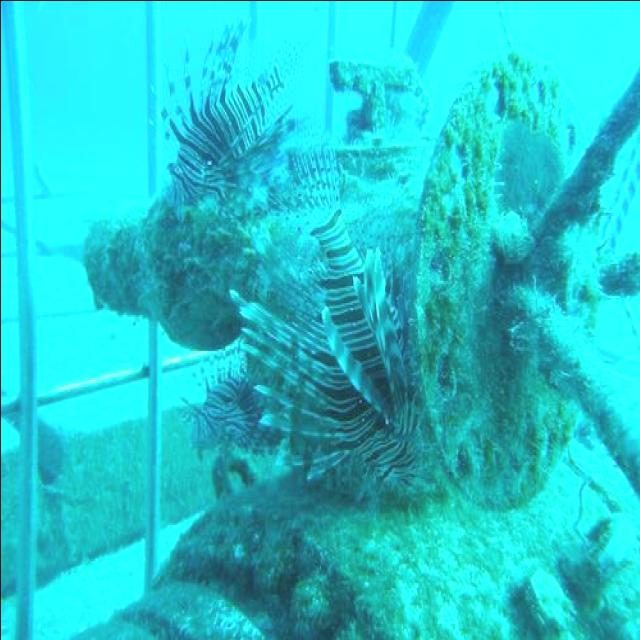Aslan Baligi: (287, 183, 437, 501), (148, 6, 304, 228), (181, 338, 275, 482)
